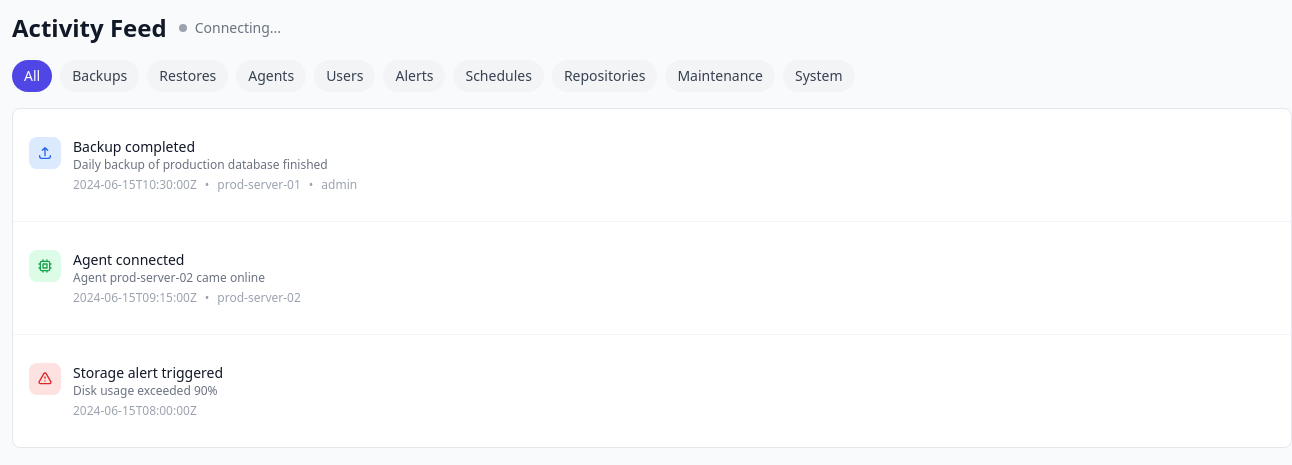
Scenario: Activity page › filters events by category when a filter pill is clicked
// Click the "Agents" category filter
Click the button "Agents". click: (271, 76)
box: [236,60,306,92]
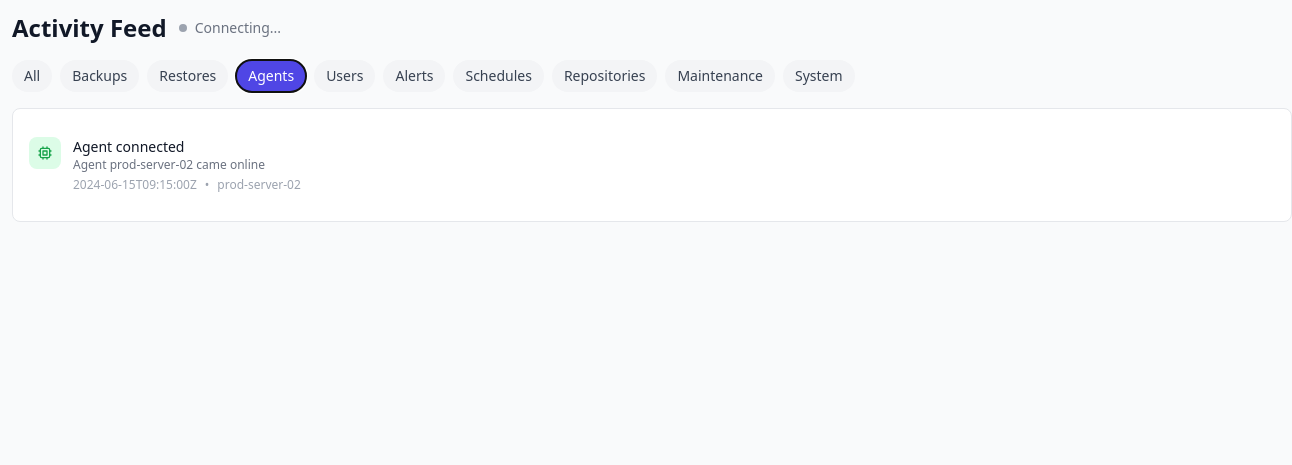
expect the text "Agent connected" is shown: met, box [73,137,184,156]
expect the text "Backup completed" is gone: met
expect the text "Storage alert triggered" is gone: met
